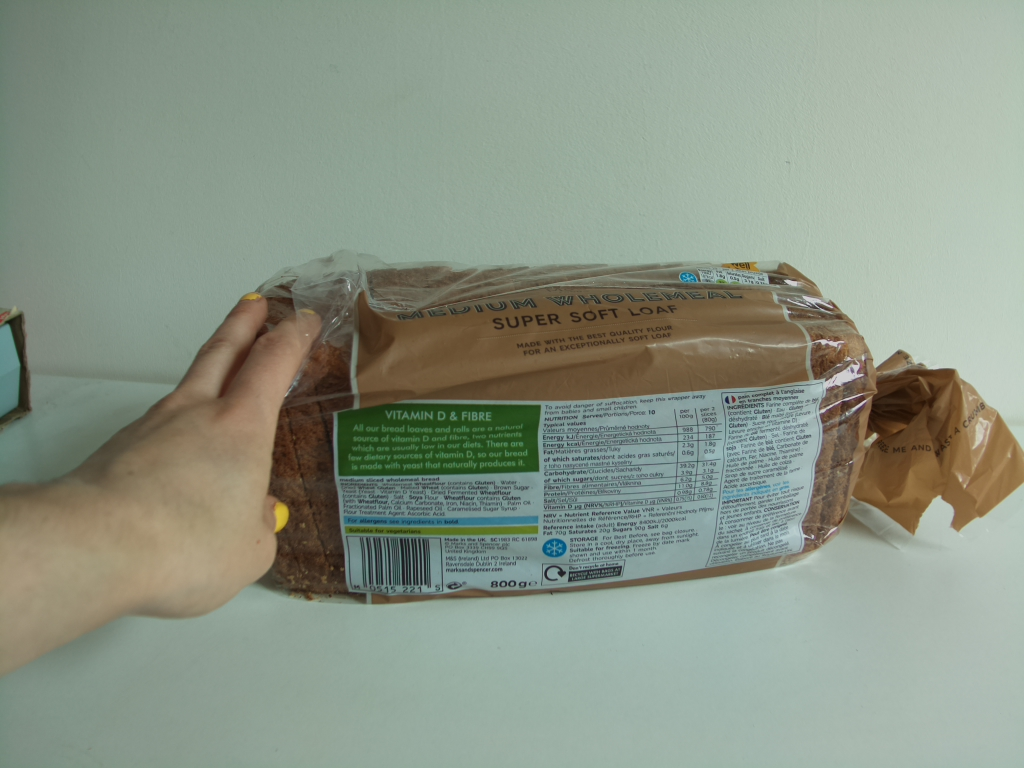bread: (245, 261, 1024, 608)
